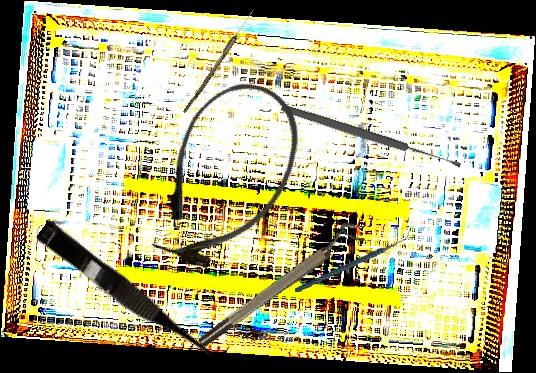Cannula: (128, 63, 323, 288)
Chopper: (289, 228, 418, 293)
Fixation Ring: (190, 217, 366, 352)
Micro Scissor: (32, 219, 224, 373)
Surgical Spoon: (279, 102, 463, 171), (182, 6, 257, 116)
